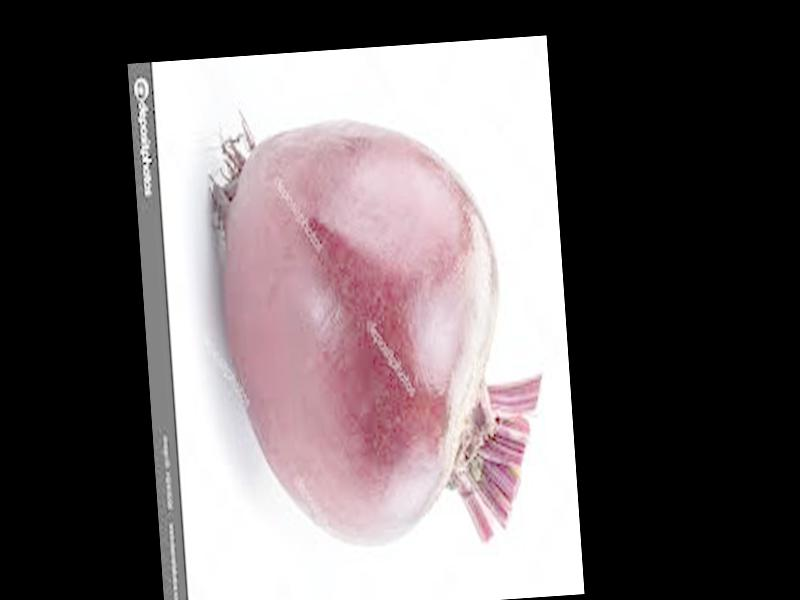Beet: (210, 110, 548, 556)
